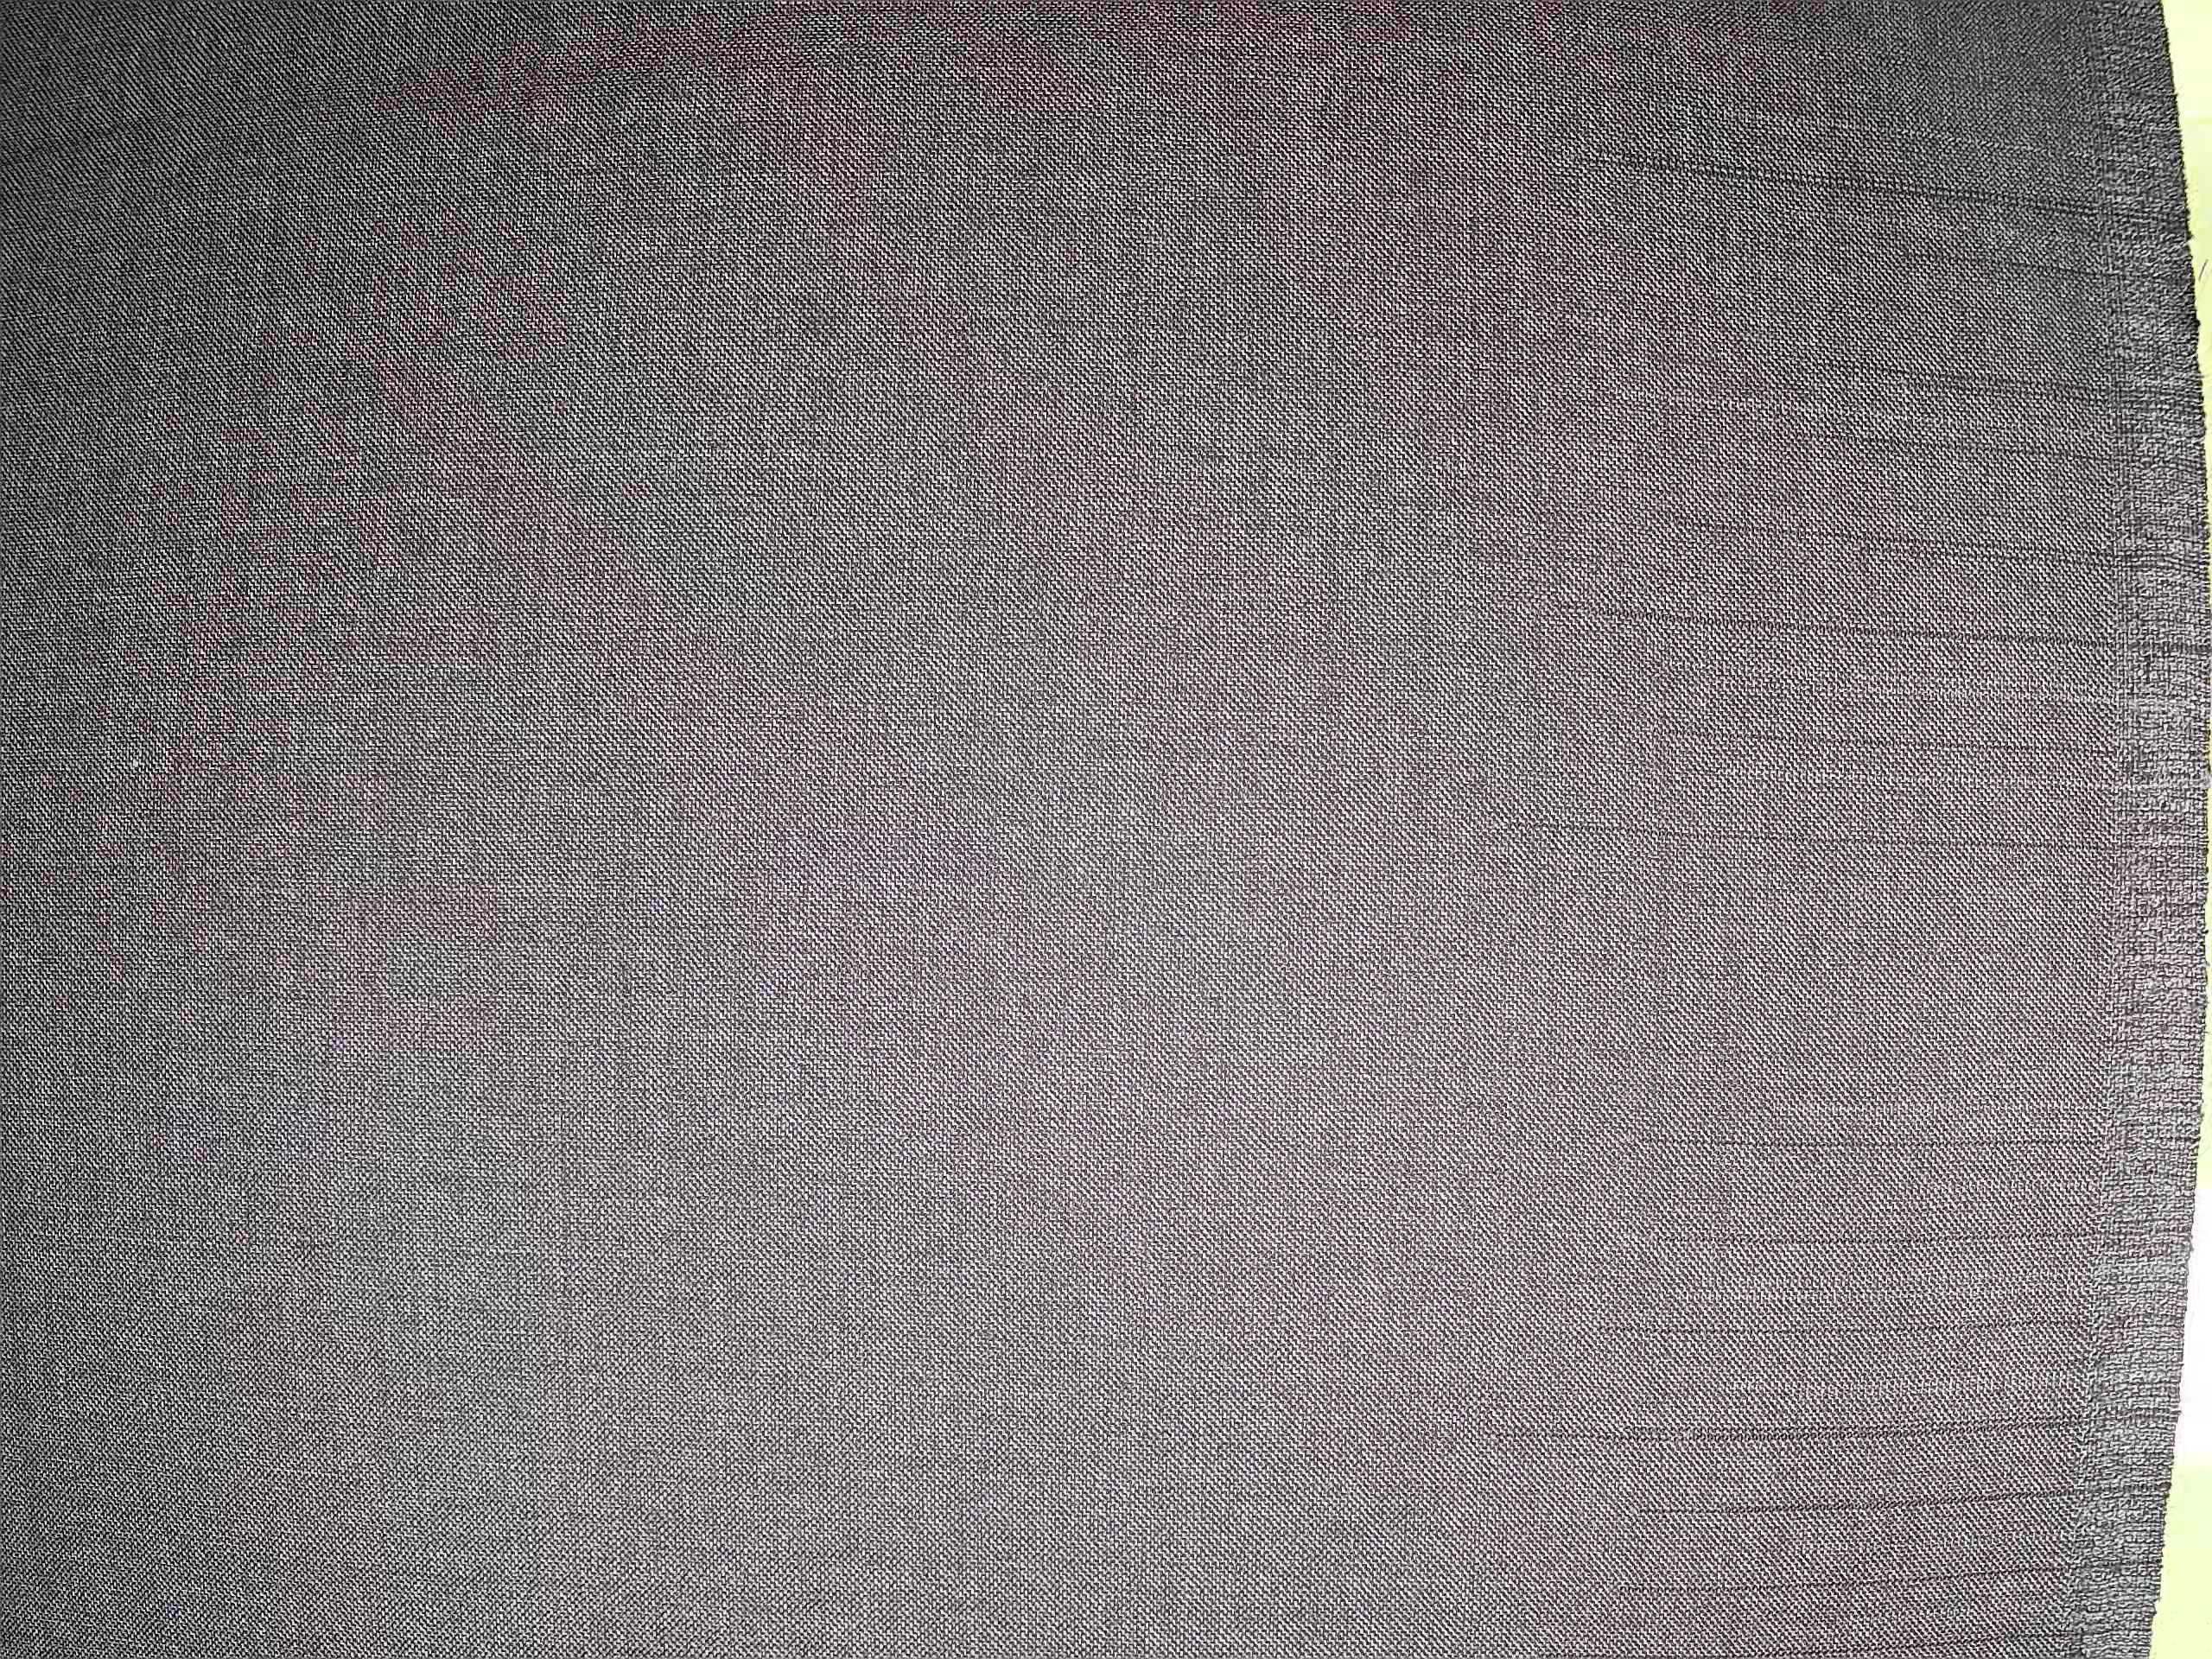others: (1524, 80, 2193, 1631)
